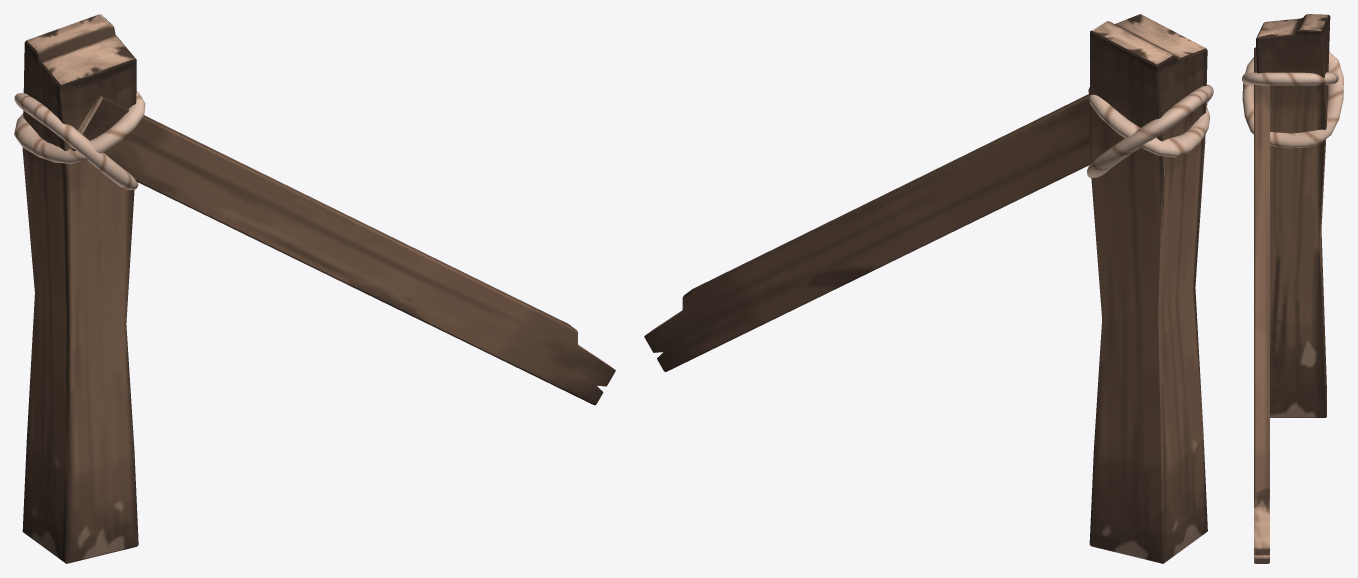
Rendered from barrière_Broken.FBX.
3 renders of one model, left to right at view 1: azimuth 30°, elevation 25°; view 2: azimuth 150°, elevation 25°; view 3: azimuth 270°, elevation 25°, orthographic. The views are drawn at different scales.
Visible parts, largest first — view 1: Z3_Fence_Broken; view 2: Z3_Fence_Broken; view 3: Z3_Fence_Broken.
Boxes of the visible parts, x1,y1,x2,y2 form: Z3_Fence_Broken: (14,14,615,563); Z3_Fence_Broken: (644,14,1213,563); Z3_Fence_Broken: (1242,14,1343,563).
Size of the model in its own units: 494 by 424 by 101.
